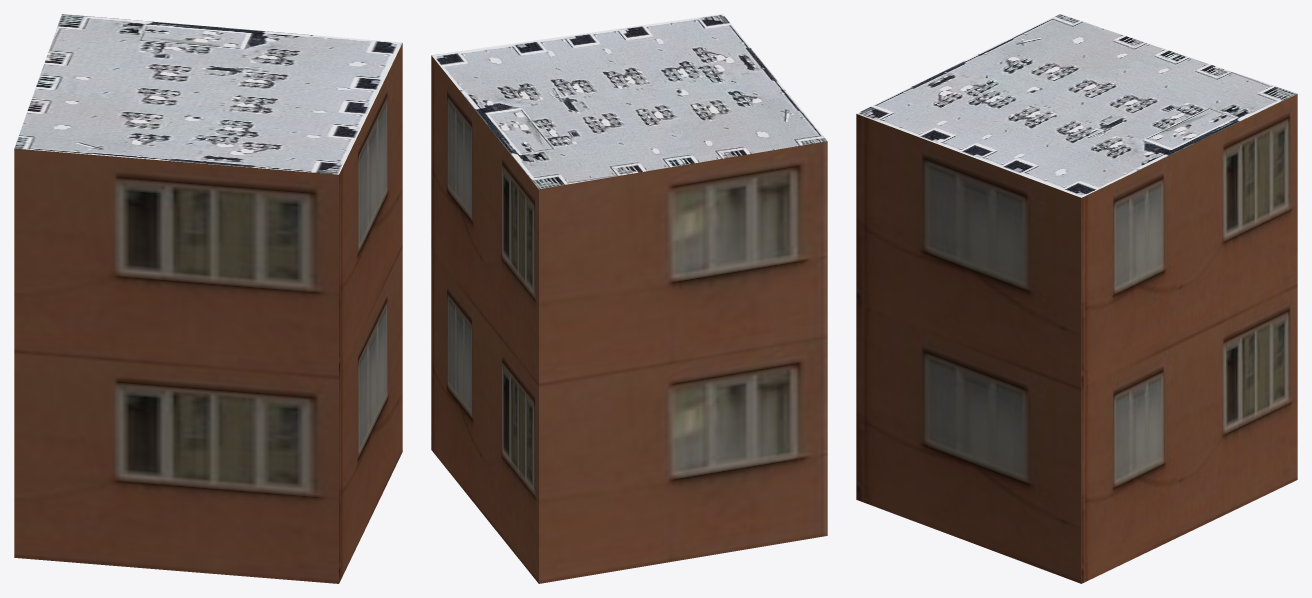
The model's file is ResTex__1344.fbx.
3 renders of one model, left to right at view 1: azimuth 30°, elevation 25°; view 2: azimuth 150°, elevation 25°; view 3: azimuth 270°, elevation 25°, orthographic. The views are drawn at different scales.
Parts seen in each view (by area): view 1: CityEngineMaterial_20_m, CityEngineMaterial_4_m; view 2: CityEngineMaterial_20_m, CityEngineMaterial_4_m; view 3: CityEngineMaterial_20_m, CityEngineMaterial_4_m.
Boxes of the visible parts, x1,y1,x2,y2 form: CityEngineMaterial_20_m: (14, 43, 402, 583); CityEngineMaterial_4_m: (14, 14, 402, 174); CityEngineMaterial_20_m: (431, 55, 827, 583); CityEngineMaterial_4_m: (431, 14, 827, 189); CityEngineMaterial_20_m: (856, 94, 1297, 583); CityEngineMaterial_4_m: (857, 14, 1297, 197).
Bounding box in the file's own units: 6.13 × 6 × 6.22.
Materials: 2 (2 with a texture image).
